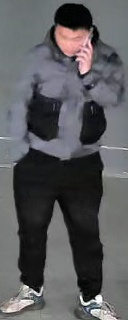phone: (33, 2, 127, 118)
